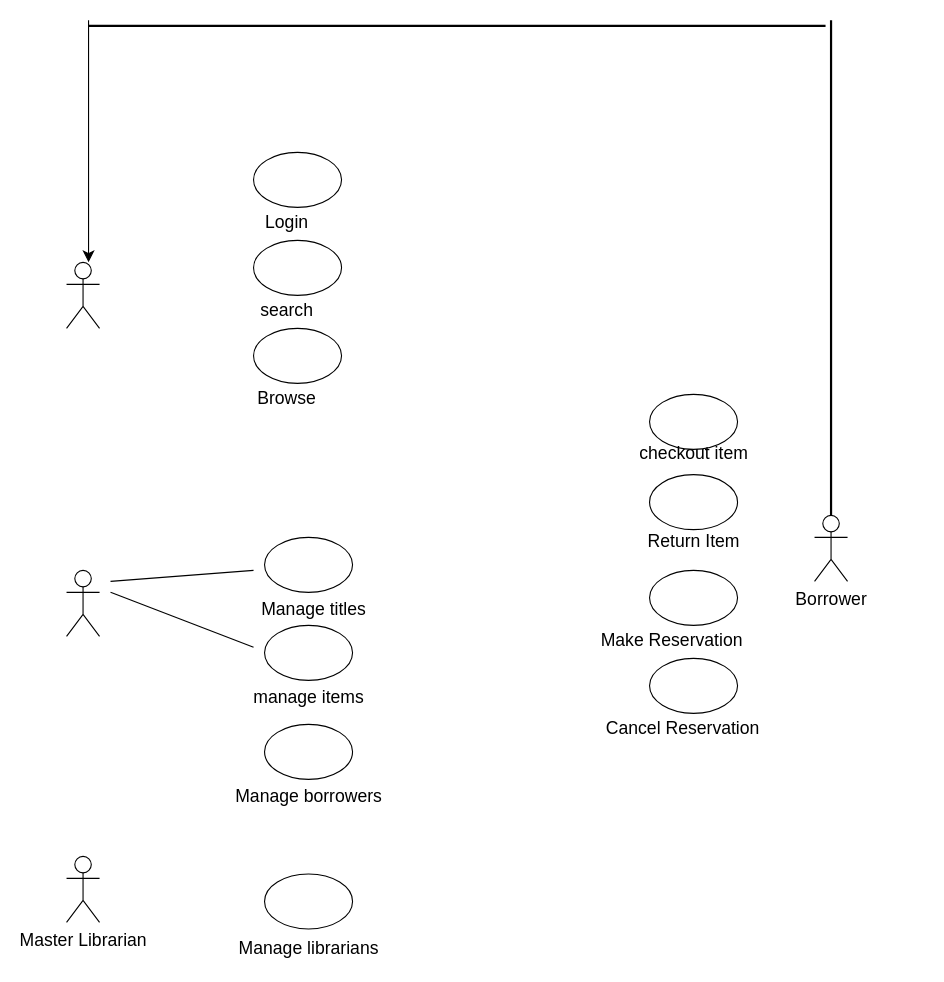
The diagram is 944 pixels wide and 982 high, and some of its shapes have lost their labels. The centre of each missing label's shape, as x and y in pixels:
"Librarian" belongs at (x=82, y=602).
"Registerd user" belongs at (x=82, y=294).
